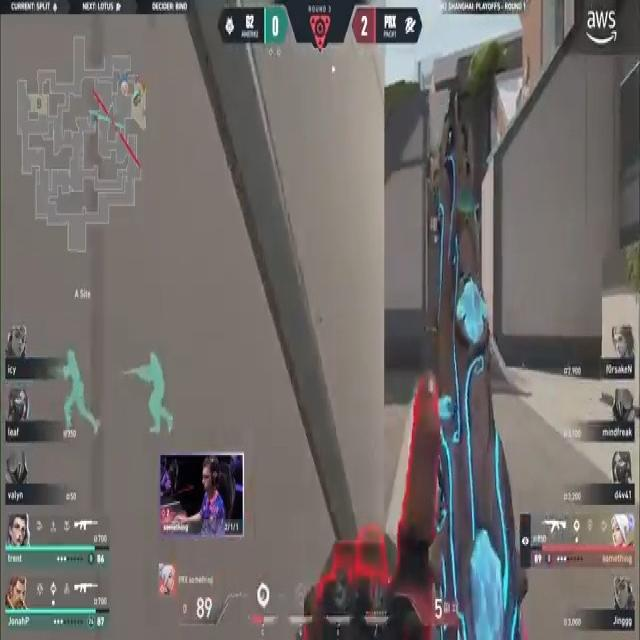ally behind wall: (130, 347, 180, 442), (62, 342, 98, 443)
